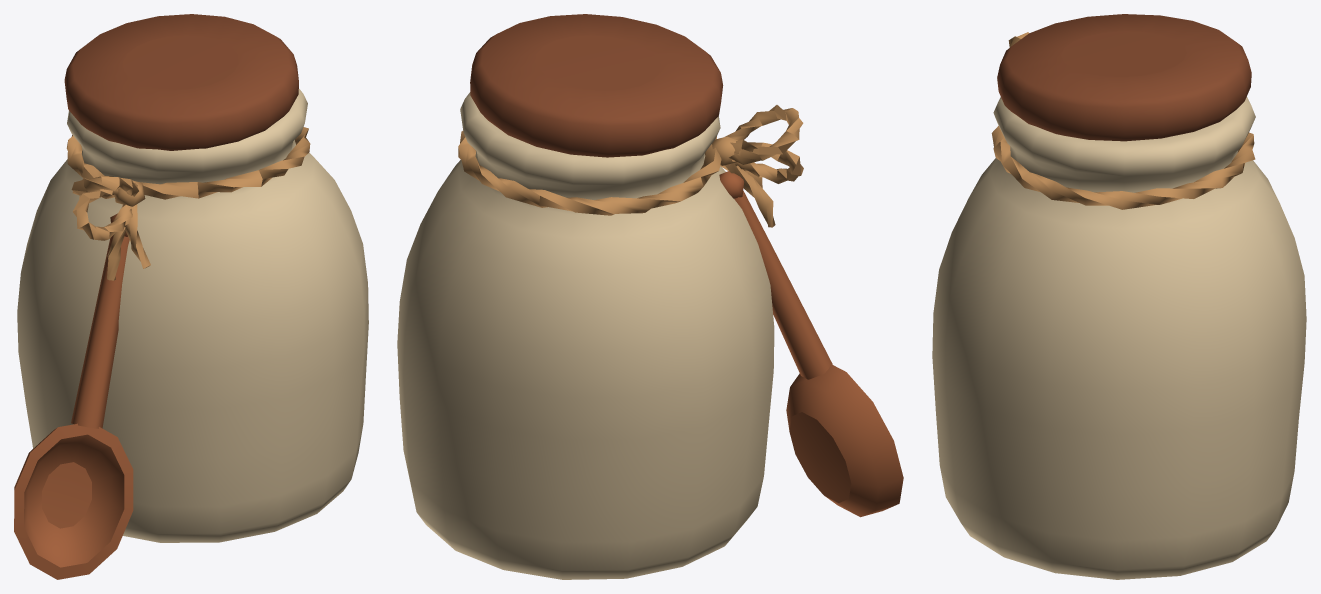
3 views of the same model, side by side, from view 1: azimuth 30°, elevation 25°; view 2: azimuth 150°, elevation 25°; view 3: azimuth 270°, elevation 25° (orthographic). The views are drawn at different scales.
Parts seen in each view (by area): view 1: jar, lid, scoop, rope; view 2: jar, lid, scoop, rope; view 3: jar, lid, rope.
Boxes of the visible parts, x1=… form: jar: x1=17, y1=89, x2=368, y2=542; lid: x1=64, y1=14, x2=298, y2=150; scoop: x1=14, y1=213, x2=133, y2=579; rope: x1=66, y1=127, x2=310, y2=280; jar: x1=397, y1=92, x2=774, y2=579; lid: x1=470, y1=14, x2=723, y2=157; scoop: x1=719, y1=171, x2=903, y2=517; rope: x1=458, y1=105, x2=803, y2=227; jar: x1=932, y1=96, x2=1306, y2=579; lid: x1=997, y1=14, x2=1251, y2=141; rope: x1=991, y1=32, x2=1255, y2=209.
Size of the model in its own units: 0.5625 by 0.5882 by 0.4332.
